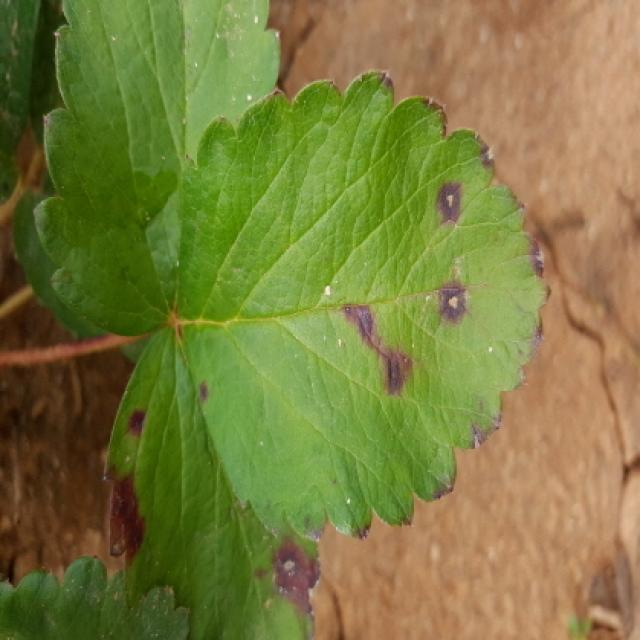Leaf Spot: (177, 70, 552, 543), (105, 321, 325, 638)
